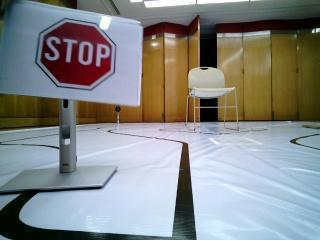stop: (16, 6, 137, 102)
